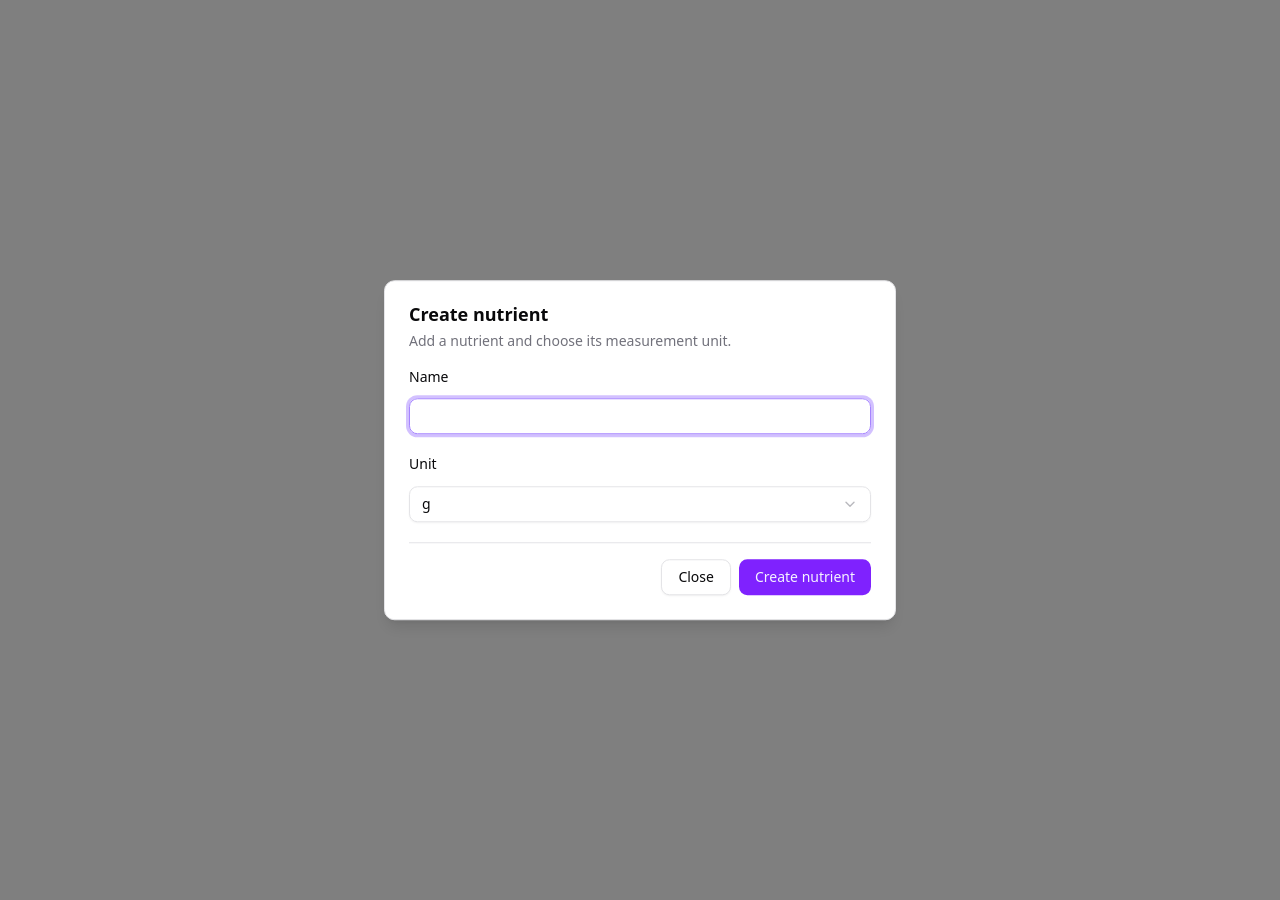
Test: NutrientFormDialog › maps a server name error back to the name field
The width and height of the screenshot is (1280, 900).
Type "Iron" into the field labelled "Name". click: (640, 416)
box: [409, 398, 871, 434]
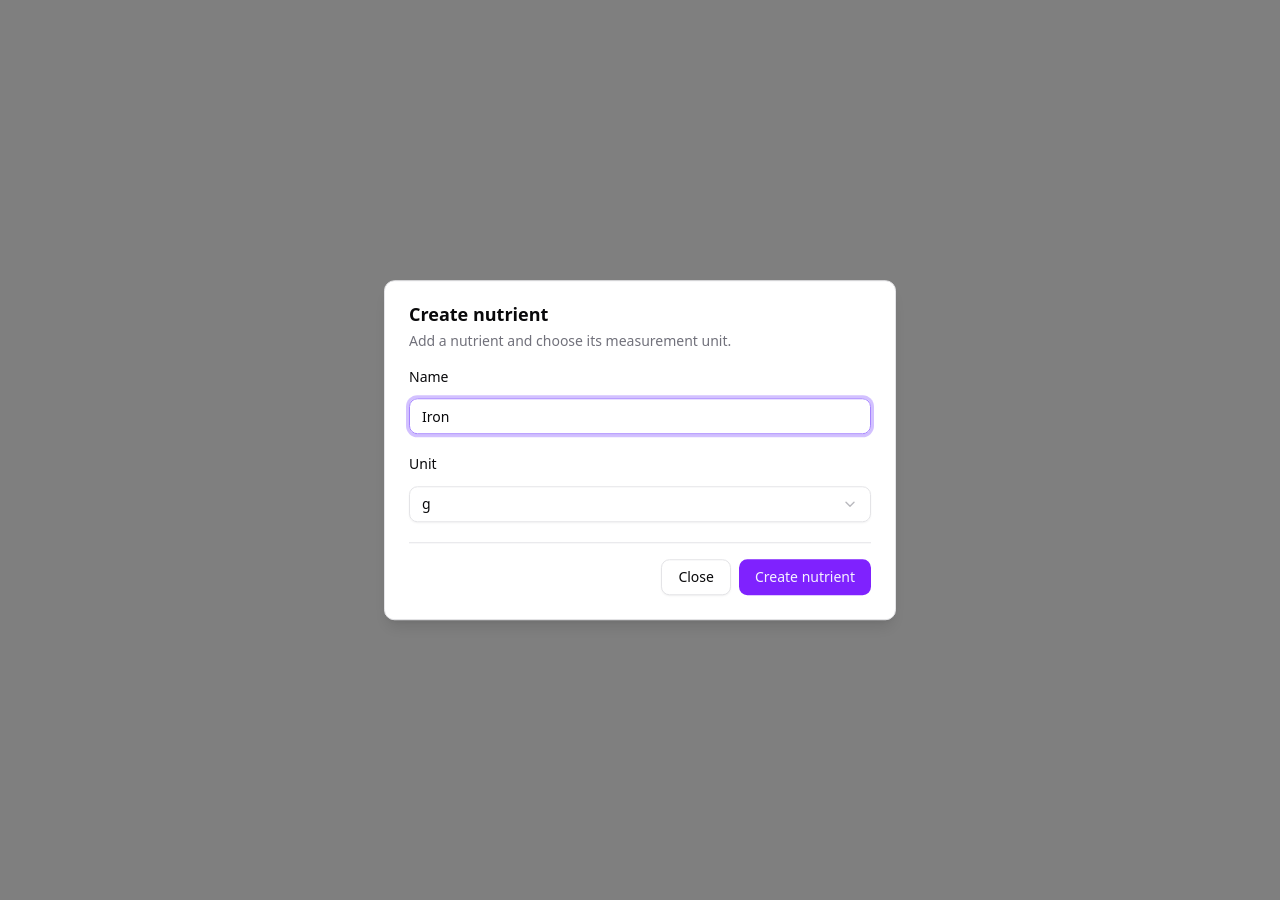
Click the button "Create nutrient". click: (805, 577)
box: [739, 559, 871, 595]
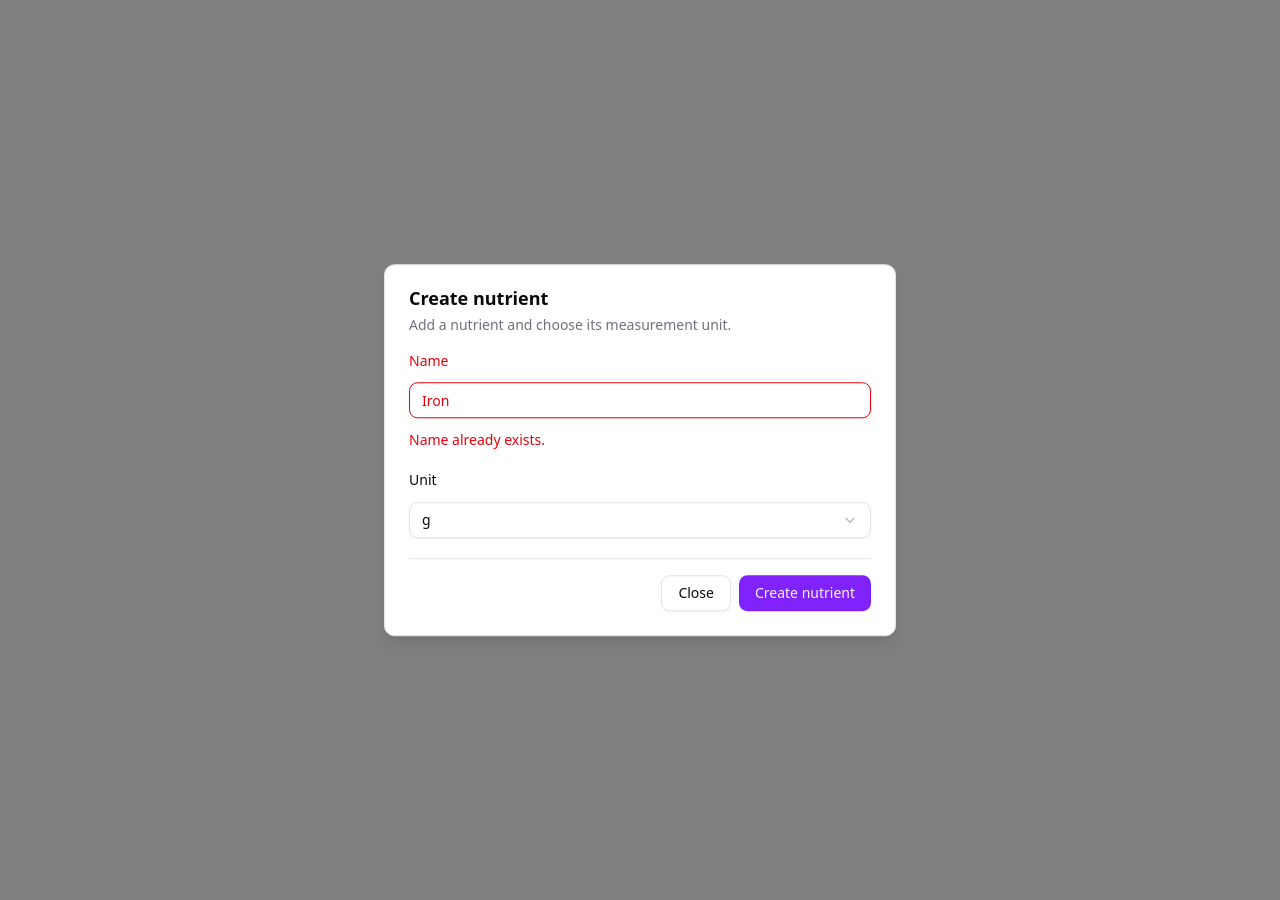
expect the text "Name already exists." is shown: met, box [409, 430, 545, 450]
